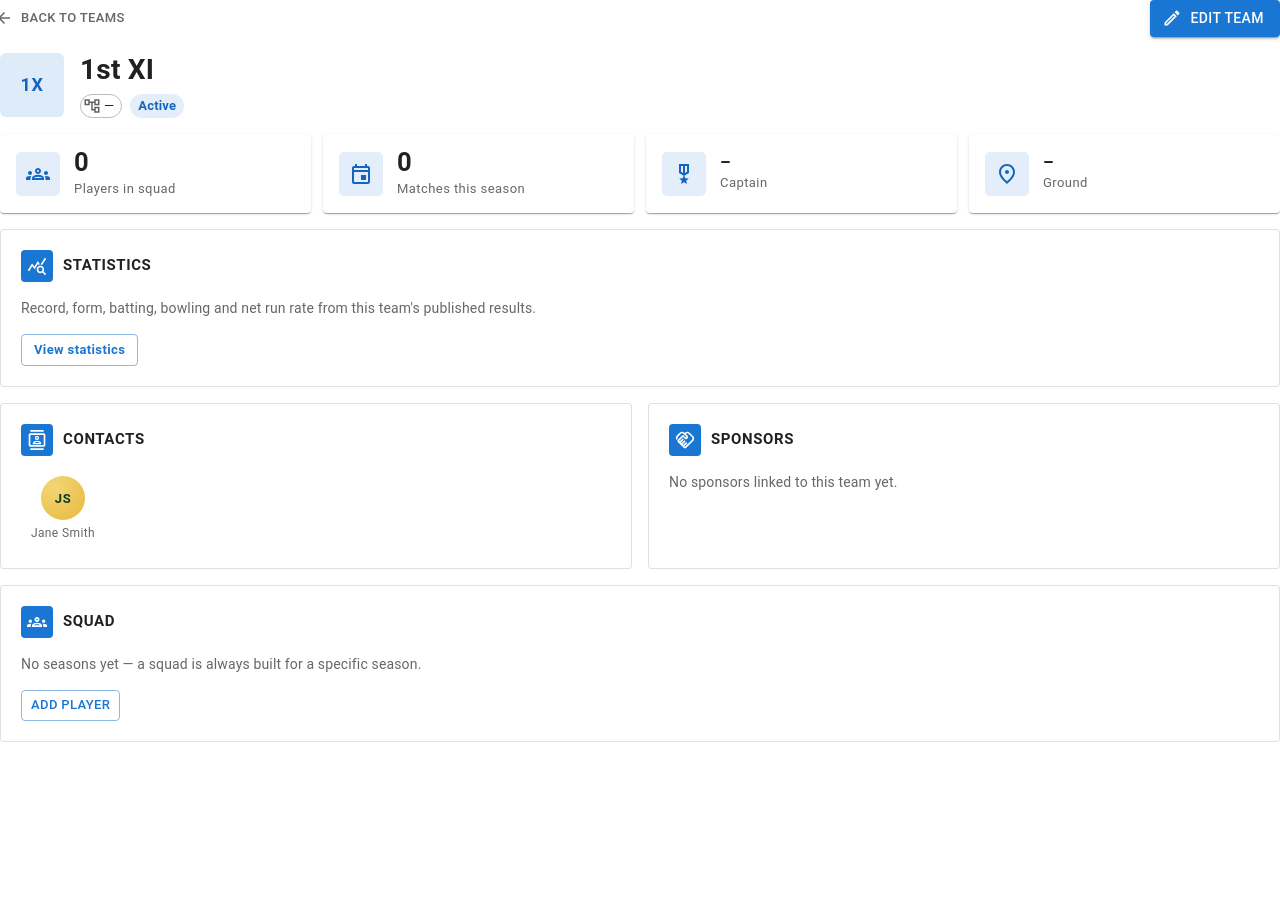
Test case: TeamDetailPage › opens the Contacts quick-view dialog with Role/Email/Phone fields, edit route intact
The image size is (1280, 900).
Expected: the heading "1st XI" is shown, [80, 52, 154, 86]
Click the button with aria-label "Jane Smith — Manager" at (63,510), box [21, 472, 105, 548]
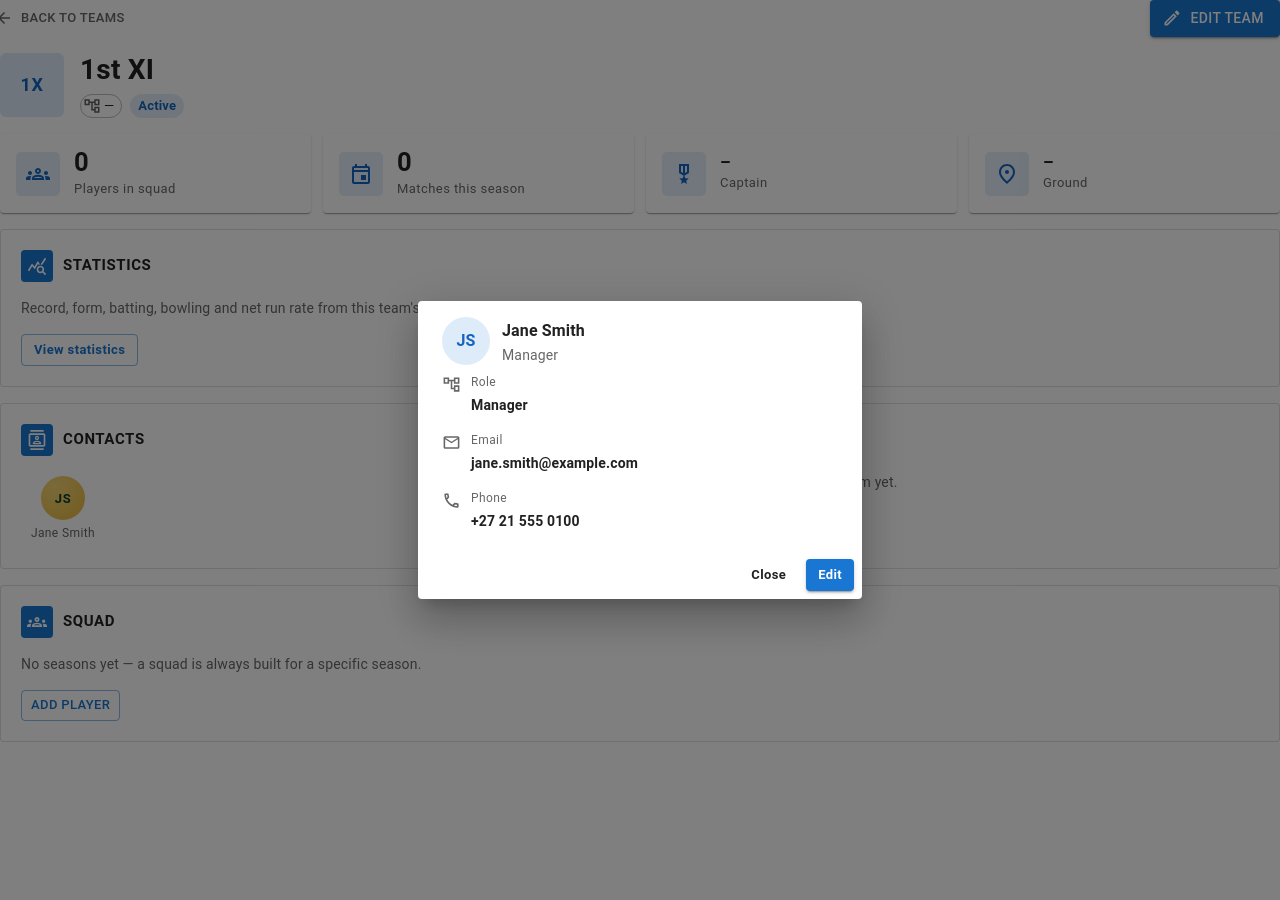
Result: the dialog is shown at [418, 301, 862, 599]
Result: the text "jane.smith@example.com" is shown at [471, 453, 638, 473]
Result: the text "+27 21 555 0100" is shown at [471, 511, 580, 531]
